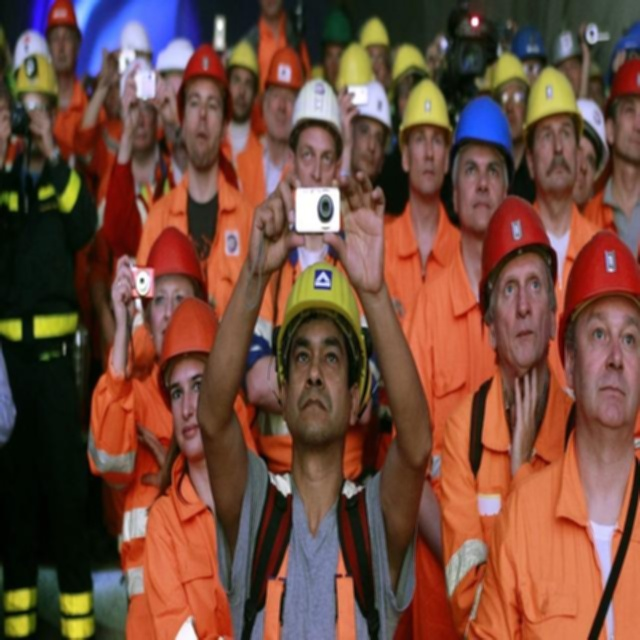Con_Casco: (560, 234, 640, 433), (482, 196, 558, 375)
